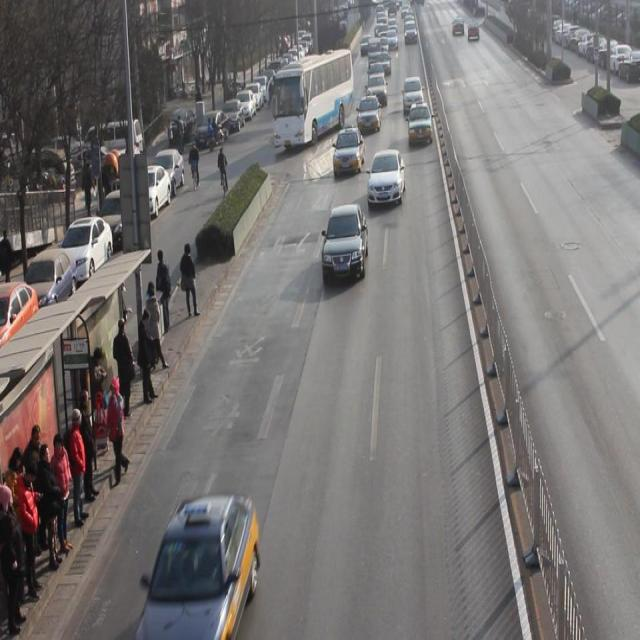car: (134, 496, 259, 640), (323, 206, 369, 280), (368, 150, 406, 208), (333, 128, 365, 178), (408, 103, 433, 146), (358, 96, 382, 133), (404, 78, 424, 118), (367, 73, 388, 108)
van: (272, 48, 354, 151)
